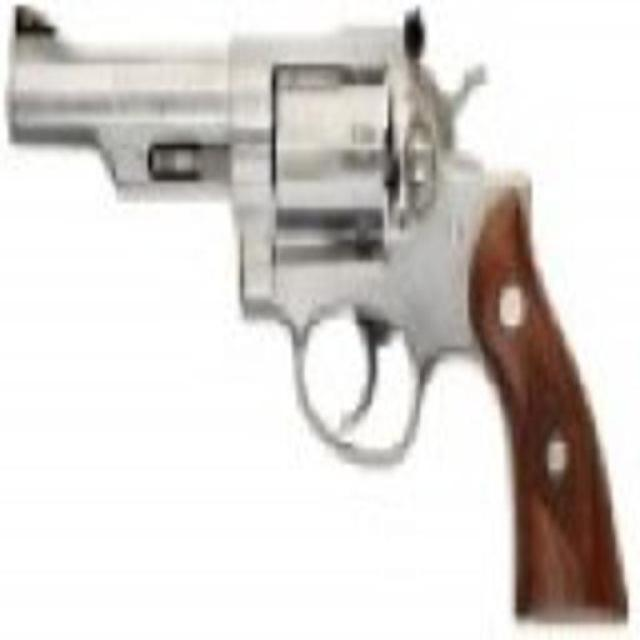pistol: (7, 5, 627, 629)
